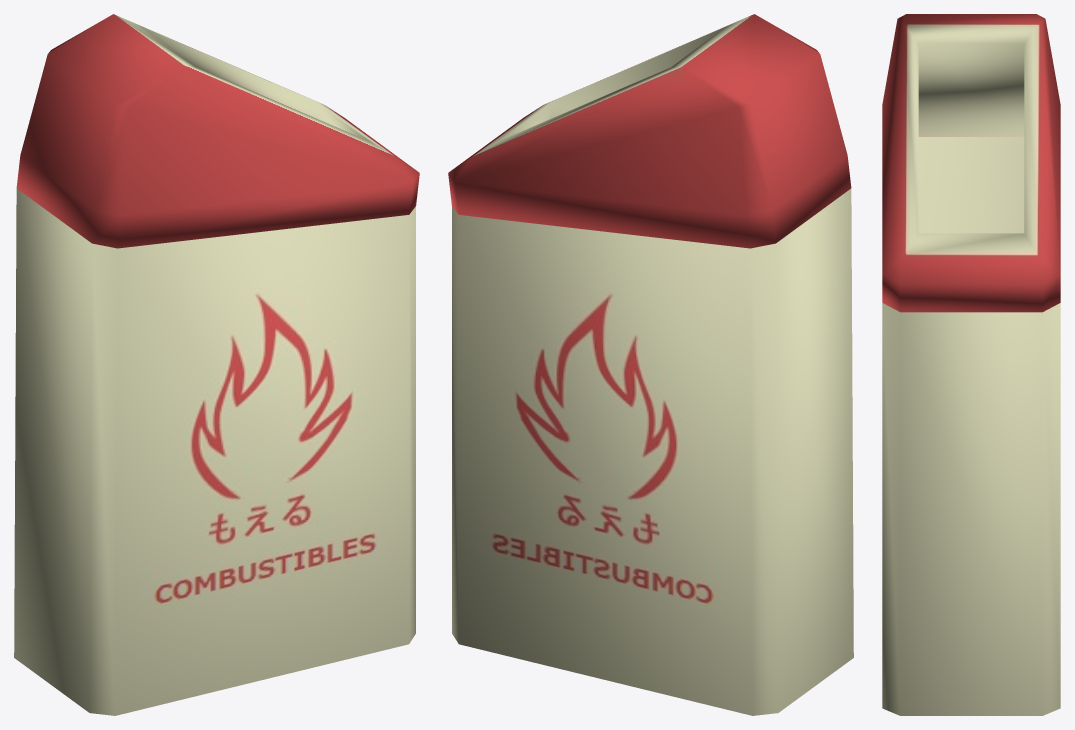
The model's file is trashbox_c02.fbx.
3 renders of one model, left to right at view 1: azimuth 30°, elevation 25°; view 2: azimuth 150°, elevation 25°; view 3: azimuth 270°, elevation 25°, orthographic. The views are drawn at different scales.
Visible parts, largest first — view 1: trashbox_c02.001, trashbox_c02_lid; view 2: trashbox_c02.001, trashbox_c02_lid; view 3: trashbox_c02.001, trashbox_c02_lid.
Boxes of the visible parts, x1,y1,x2,y2 form: trashbox_c02.001: (14,188,415,715); trashbox_c02_lid: (16,14,419,248); trashbox_c02.001: (452,188,853,715); trashbox_c02_lid: (448,14,851,248); trashbox_c02.001: (882,137,1060,715); trashbox_c02_lid: (882,14,1060,312).
Size of the model in its own units: 40.46 by 72.72 by 20.
